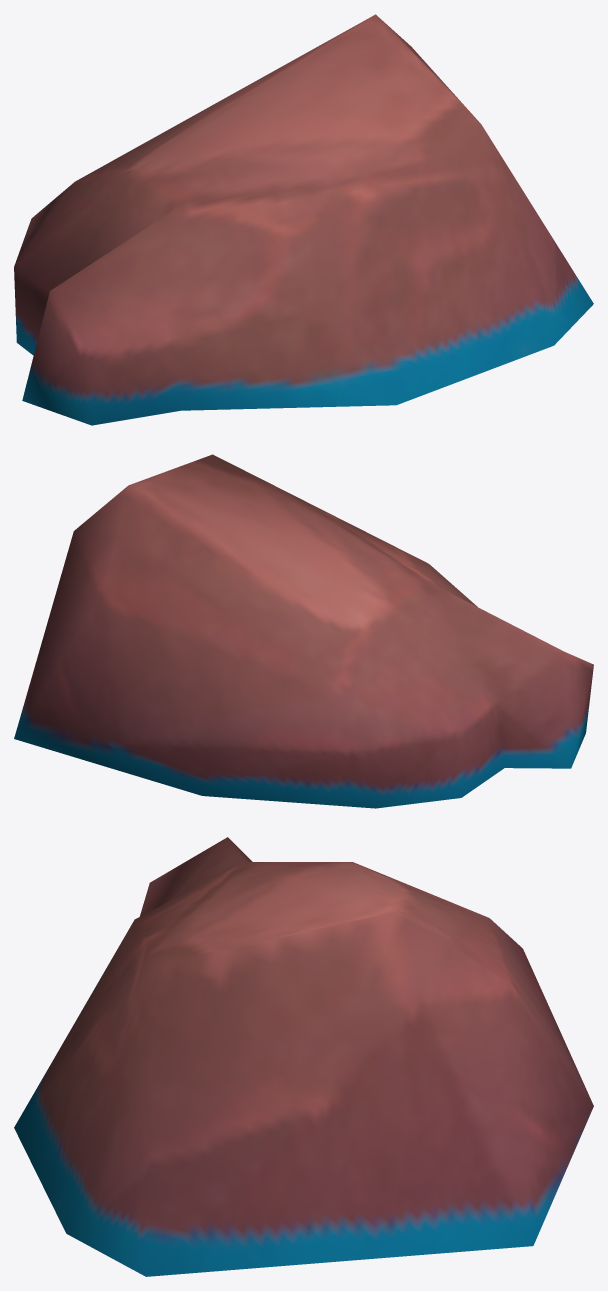
Rendered from nameikexing_shitou11.FBX.
3 views of the same model, one above another, from view 1: azimuth 30°, elevation 25°; view 2: azimuth 150°, elevation 25°; view 3: azimuth 270°, elevation 25° (orthographic). The views are drawn at different scales.
Parts seen in each view (by area): view 1: nameikexing_shitou11; view 2: nameikexing_shitou11; view 3: nameikexing_shitou11.
Boxes of the visible parts, x1,y1,x2,y2 form: nameikexing_shitou11: (14, 14, 593, 425); nameikexing_shitou11: (14, 454, 593, 808); nameikexing_shitou11: (14, 837, 593, 1276).
Size of the model in its own units: 334 by 147 by 261.
